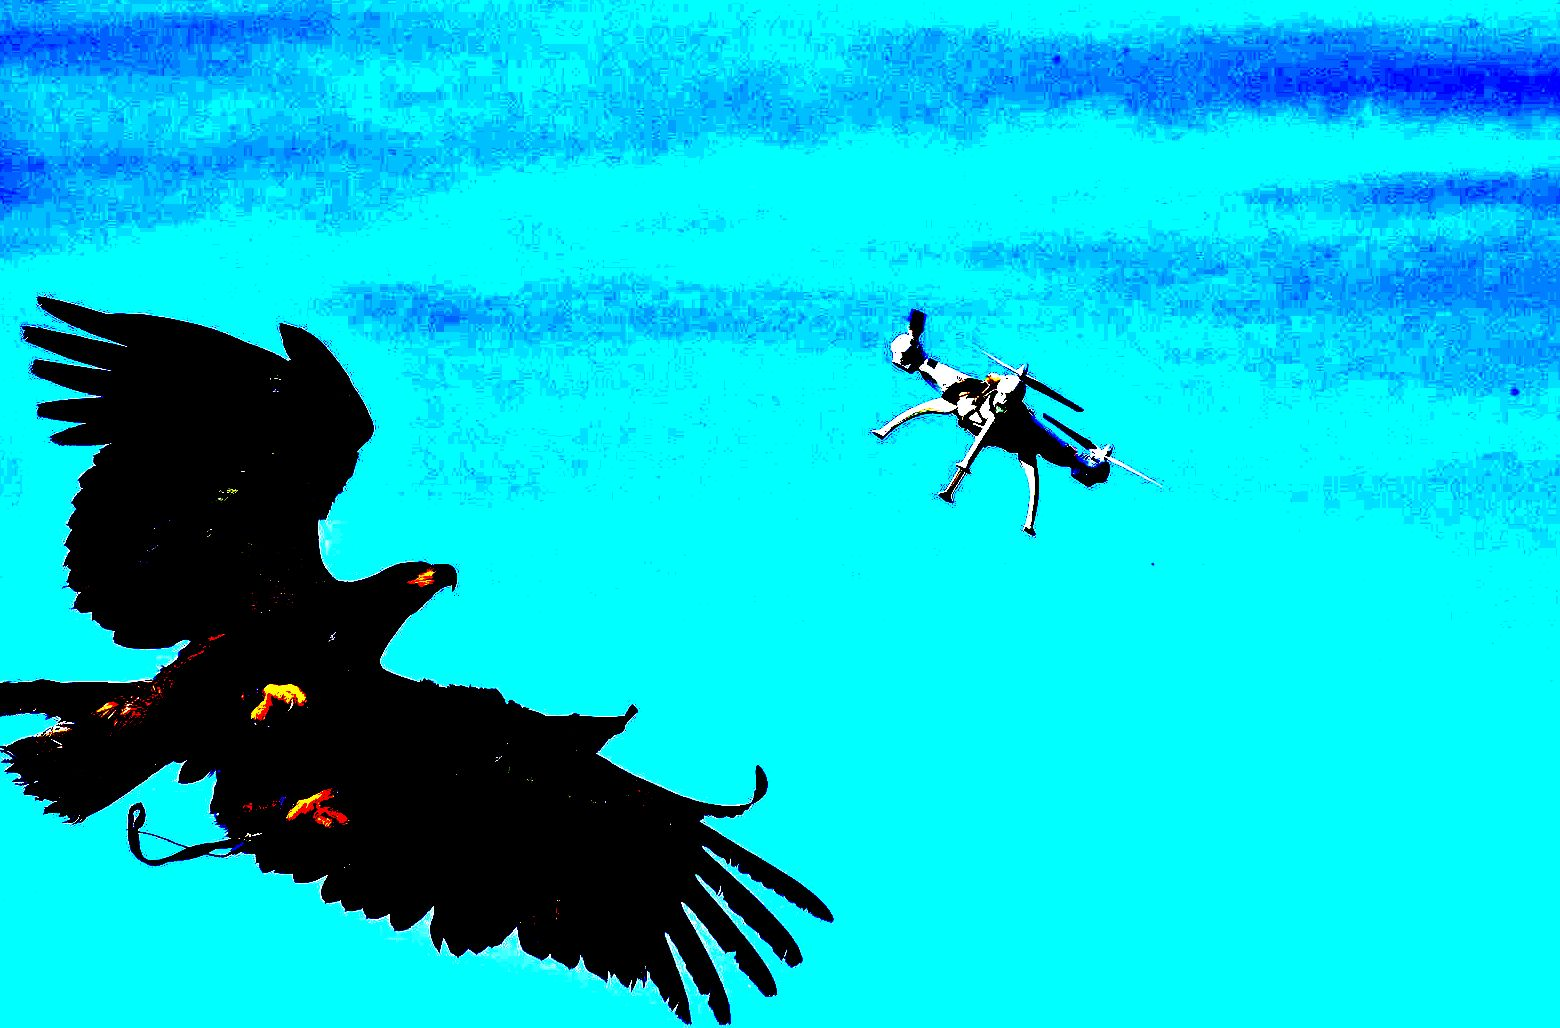Bird: (1, 278, 847, 1020)
Drone: (856, 295, 1150, 544)
